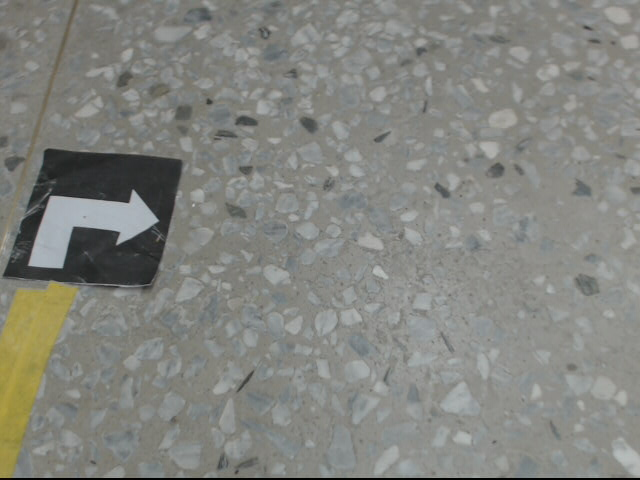right: (4, 147, 183, 289)
